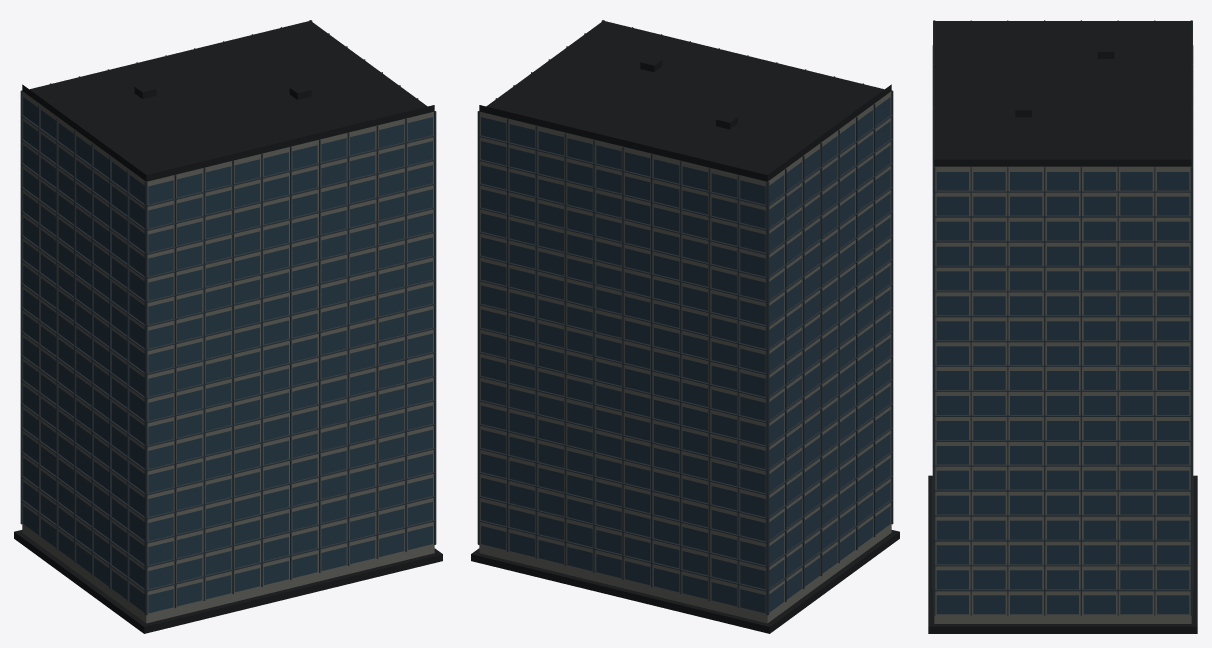
File: office-10.glb
3 renders of one model, left to right at view 1: azimuth 30°, elevation 25°; view 2: azimuth 150°, elevation 25°; view 3: azimuth 270°, elevation 25°, orthographic. The views are drawn at different scales.
Visible parts, largest first — view 1: glass-office; view 2: glass-office; view 3: glass-office.
Part boxes in pixels (left/top/right/bottom): glass-office: left=14, top=20, right=442, bottom=633; glass-office: left=471, top=20, right=899, bottom=633; glass-office: left=928, top=20, right=1197, bottom=633.
Bounding box in the file's own units: 51.35 × 75.91 × 38.75.
